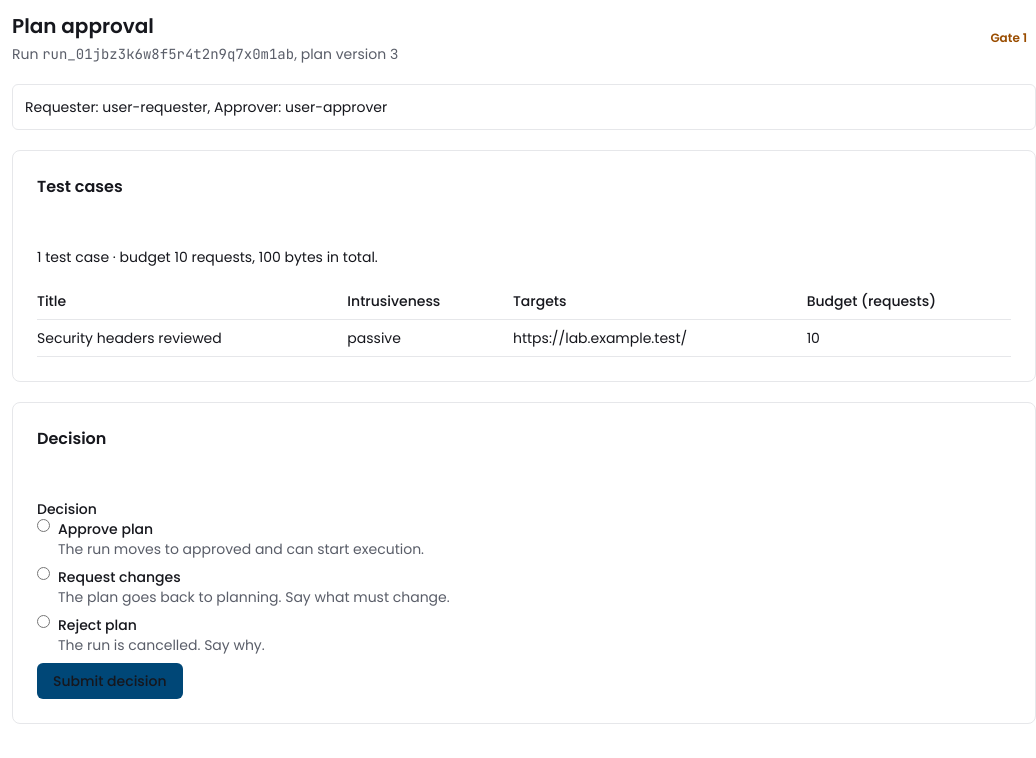
Test: Gate1Review: the approver › reloads the plan on a stale version (409) and tells the approver to review again
Click the radio button labelled "Approve plan" at (44, 526), box [37,519,50,532]
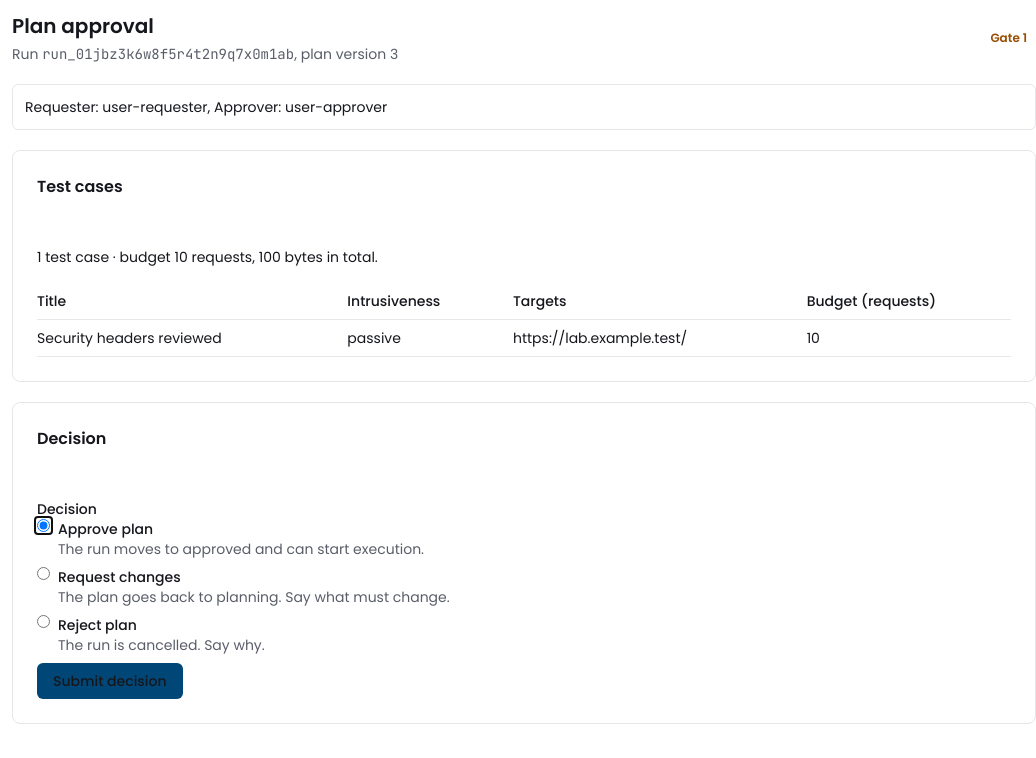
Click the button "Submit decision" at (110, 681), box [37,663,182,699]
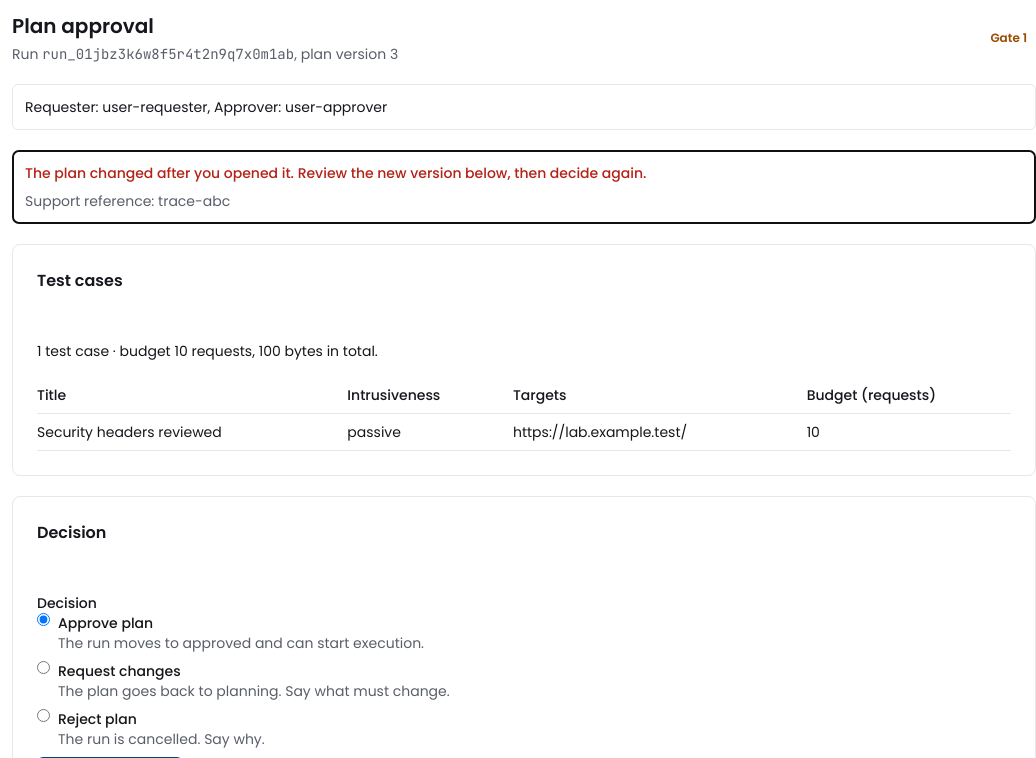
Now the message shows "changed after you opened it", box [25,163,646,183]
